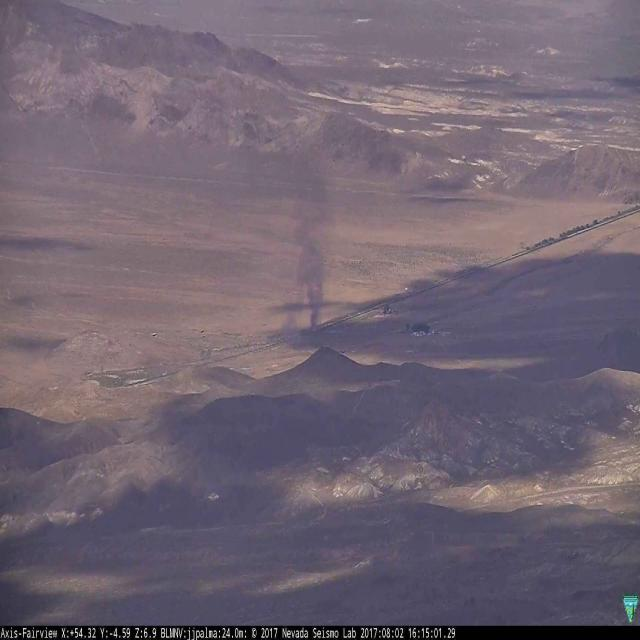smoke: (280, 124, 341, 348)
